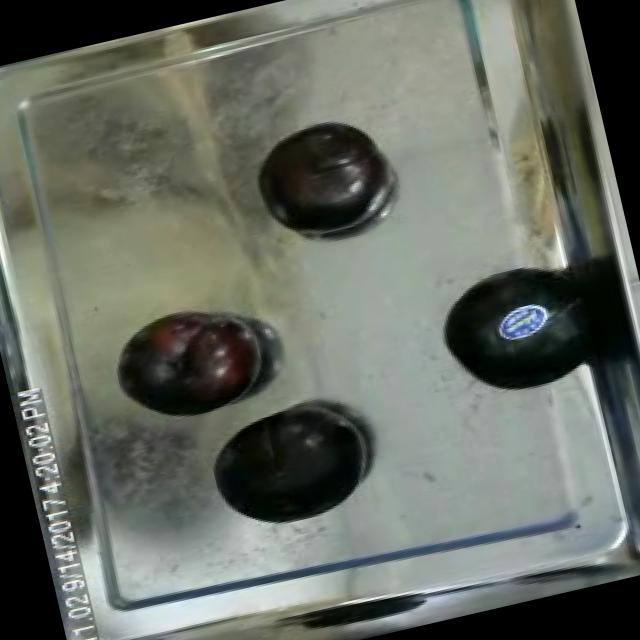Fruit: (413, 245, 608, 422), (192, 388, 386, 544), (100, 290, 280, 435), (245, 110, 396, 250)
